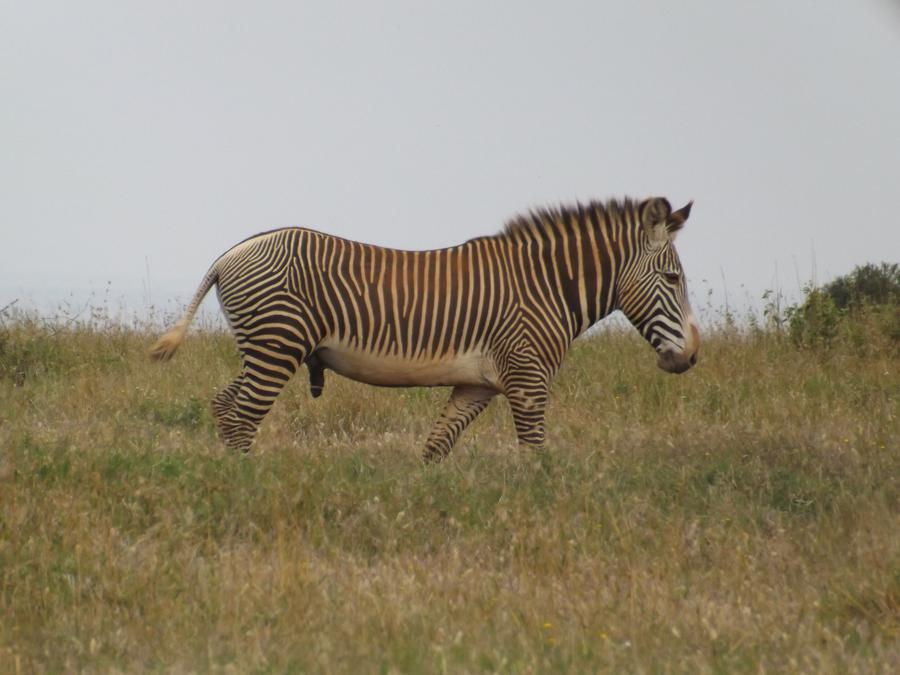zebra_grevys: (203, 206, 561, 395)
